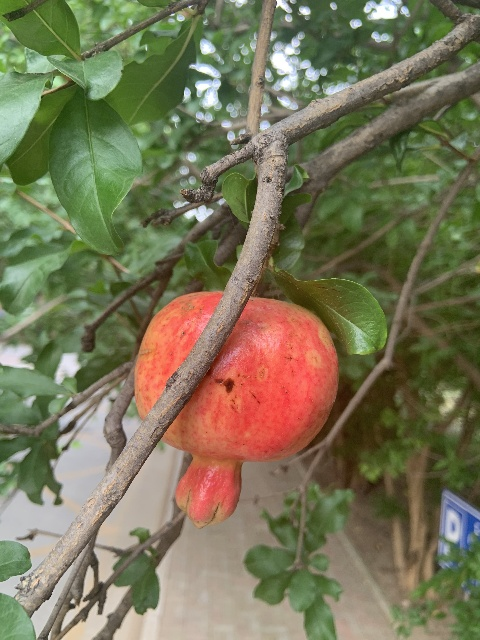ripe: (133, 291, 340, 528)
